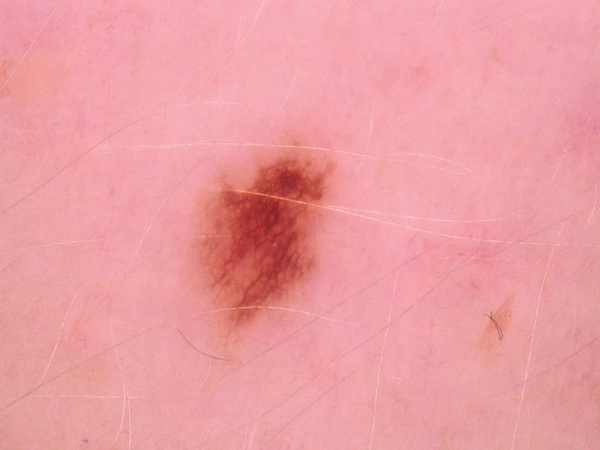Detected Lesion: (193, 143, 337, 346)
